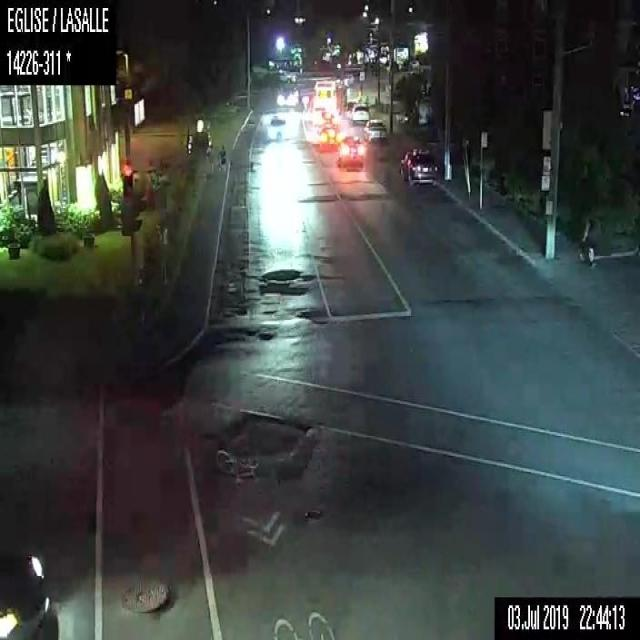bus: (313, 76, 348, 112)
pedestrian: (578, 210, 596, 266), (217, 144, 224, 175)
vehicle: (0, 550, 58, 638), (399, 146, 436, 184), (335, 134, 365, 165), (362, 117, 388, 145), (188, 132, 212, 162), (318, 126, 341, 152), (274, 87, 299, 107), (316, 112, 340, 132), (350, 101, 371, 123), (266, 116, 288, 137), (275, 67, 298, 84)
